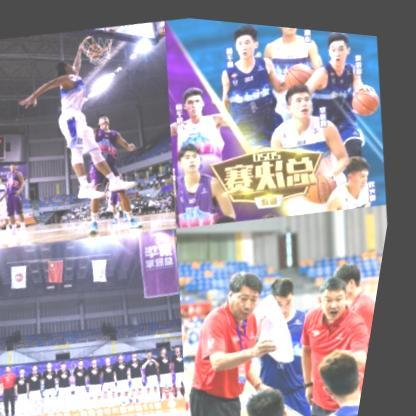basketball: (348, 78, 384, 111)
